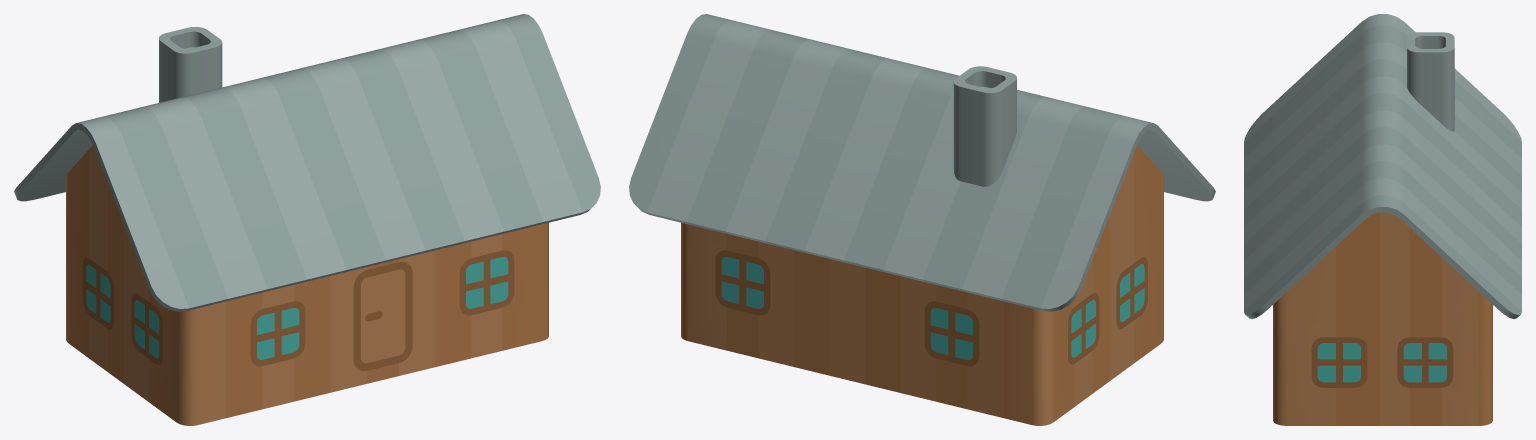
The model's file is Farm House.fbx.
3 renders of one model, left to right at view 1: azimuth 30°, elevation 25°; view 2: azimuth 150°, elevation 25°; view 3: azimuth 270°, elevation 25°, orthographic. The views are drawn at different scales.
Parts seen in each view (by area): view 1: Farm House, Door house; view 2: Farm House; view 3: Farm House.
Boxes of the visible parts, x1,y1,x2,y2 form: Farm House: [14, 14, 600, 425]; Door house: [353, 261, 412, 371]; Farm House: [629, 14, 1215, 425]; Farm House: [1244, 14, 1521, 425].
Size of the model in its own units: 11.59 by 7.42 by 7.06.
